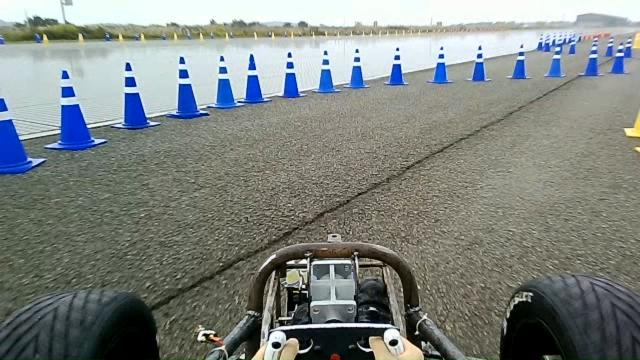blue cone: (44, 68, 108, 150), (0, 92, 46, 173), (110, 61, 161, 129), (165, 56, 210, 119), (206, 55, 244, 109), (236, 53, 272, 104), (274, 51, 306, 98), (312, 50, 341, 93), (343, 48, 370, 89), (427, 45, 453, 84), (384, 46, 409, 86), (467, 45, 491, 82), (544, 41, 568, 77), (507, 44, 531, 79), (580, 40, 604, 74), (608, 41, 629, 74)
